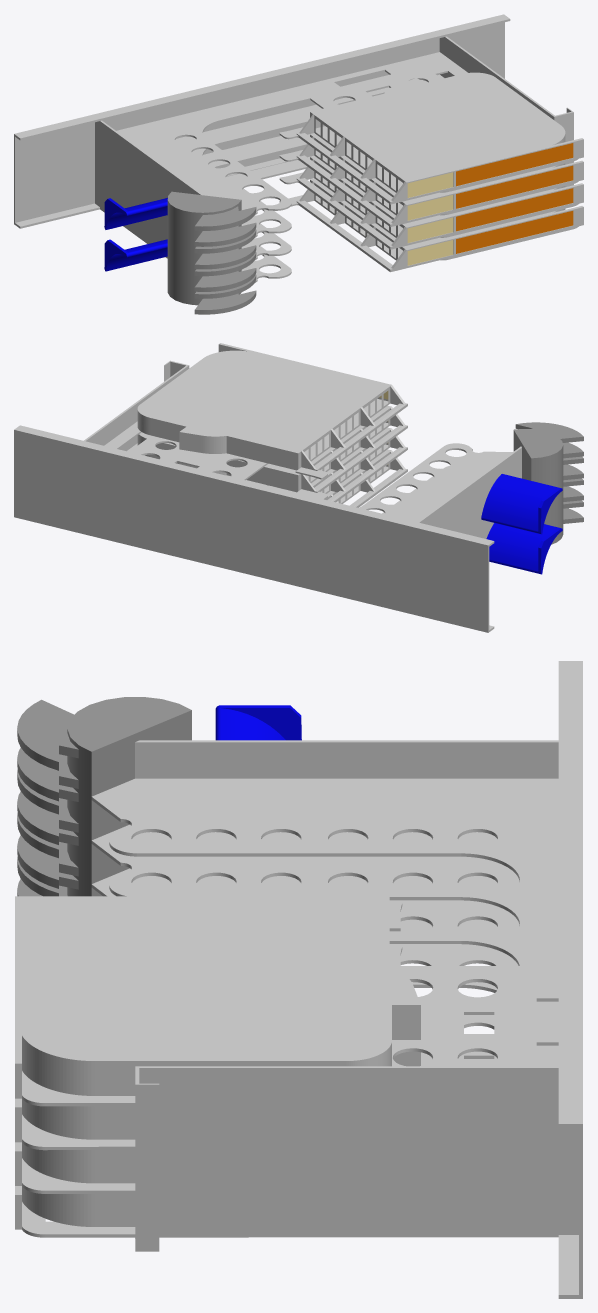
File: Chassis-LISA-2U-R.glb
The picture shows the model from 3 angles, top to bottom: view 1: azimuth 30°, elevation 25°; view 2: azimuth 150°, elevation 25°; view 3: azimuth 270°, elevation 25°; orthographic projection. The views are drawn at different scales.
Parts seen in each view (by area): view 1: Geom3D (×17), Geom3D_ (×17); view 2: Geom3D_ (×7), Geom3D (×5); view 3: Geom3D (×9), Geom3D_ (×14).
Boxes of the visible parts, bbox=[...] form: Geom3D (×17): bbox=[15, 19, 583, 283]; Geom3D_ (×17): bbox=[14, 14, 573, 314]; Geom3D_ (×7): bbox=[14, 360, 583, 632]; Geom3D (×5): bbox=[104, 343, 512, 521]; Geom3D (×9): bbox=[15, 778, 578, 1294]; Geom3D_ (×14): bbox=[17, 661, 582, 1298].
Bounding box in the file's own units: 0.5 × 0.0904 × 0.2592.
